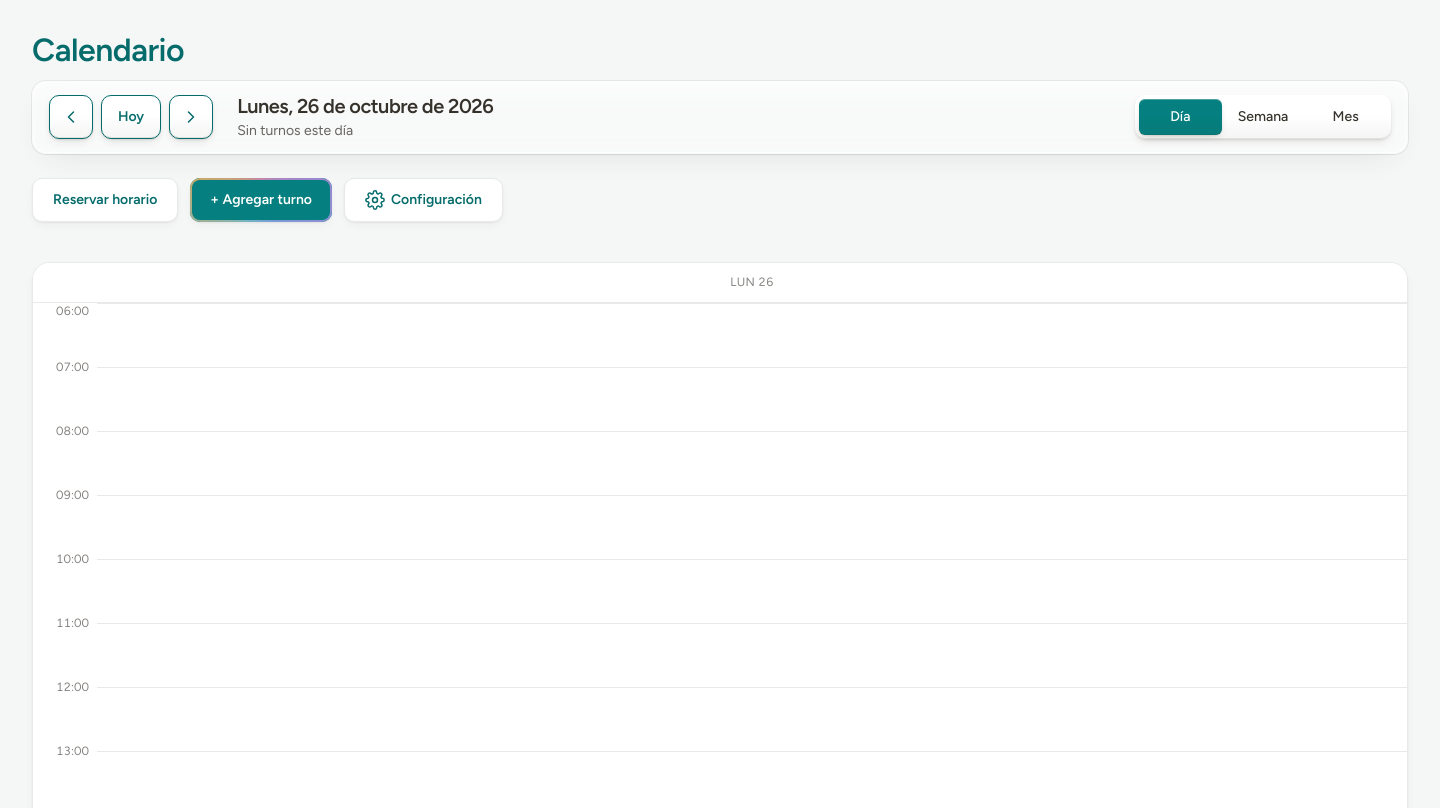
Test: CalendarView › acceso rápido 'Reservar horario' › el botón abre el acceso rápido con las 2 opciones
Click the button "Reservar horario" at coordinates (105, 200), box [32,178,178,222]
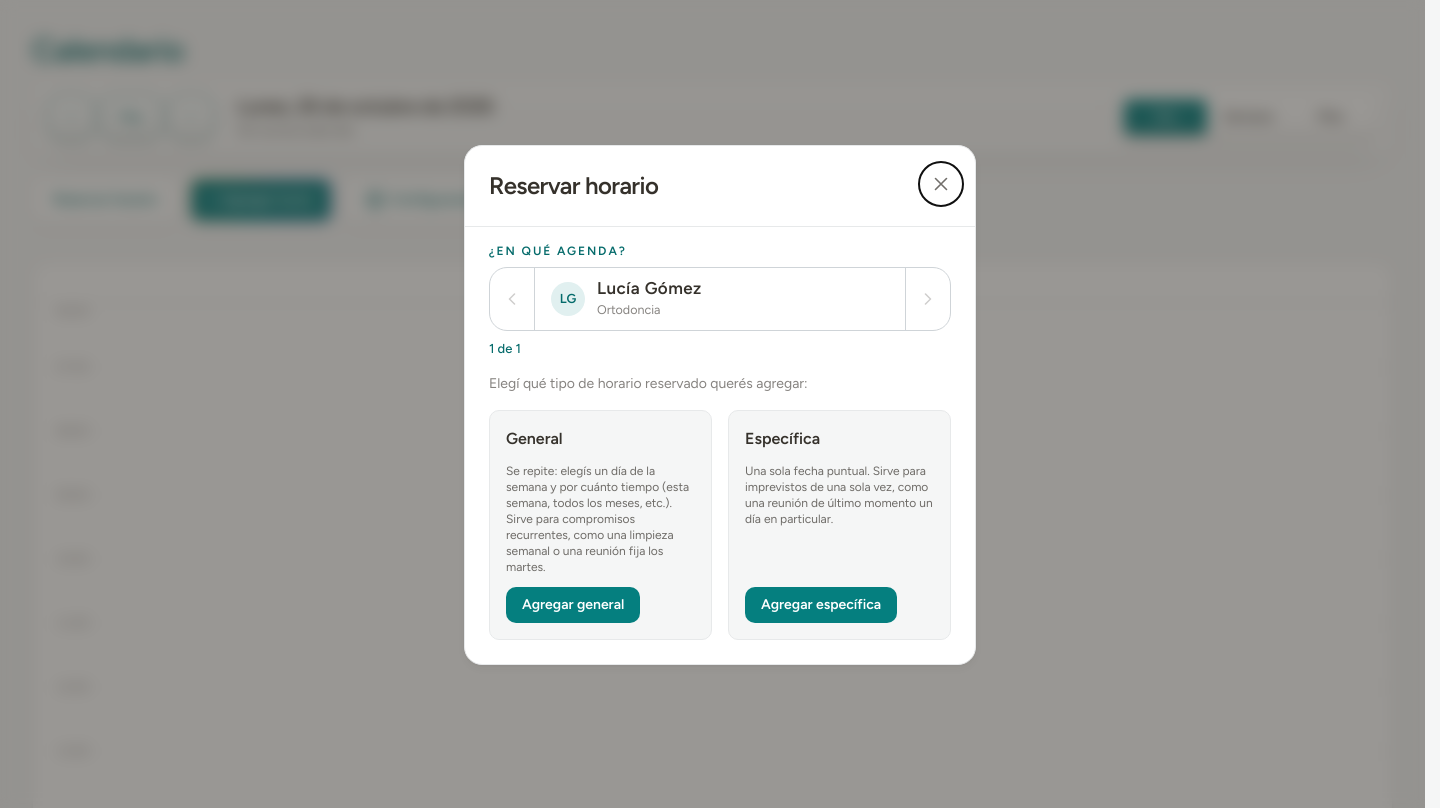
Expected: the dialog "Reservar horario" is shown, [464,145,976,665]
Expected: the button "Agregar general" is shown, [506,587,640,623]
Expected: the button "Agregar específica" is shown, [745,587,897,623]
